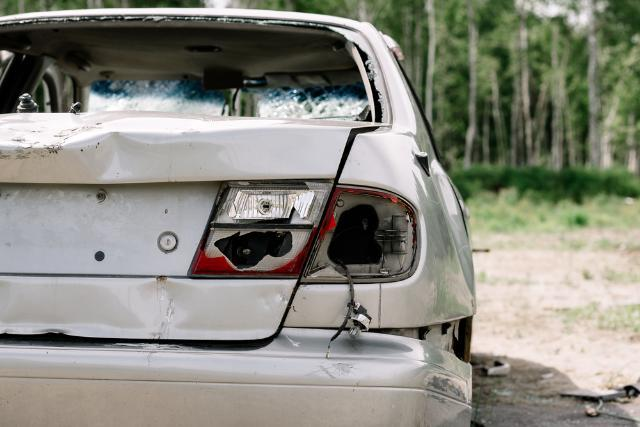dent: (0, 278, 294, 342), (0, 112, 209, 180)
dislocated part: (277, 315, 474, 427)
lamp broken: (187, 180, 418, 280)
scratch: (421, 376, 466, 406), (323, 359, 359, 379)
